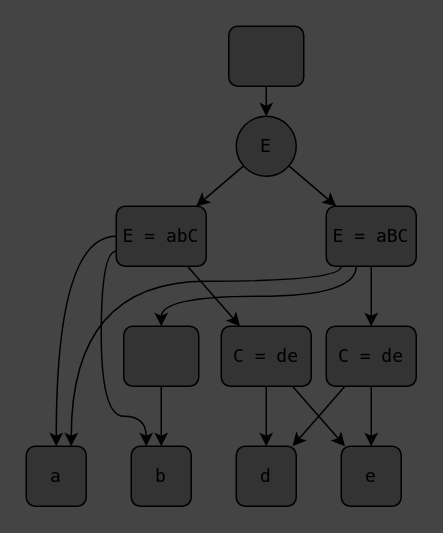
The diagram is 443 pixels wide and 533 high, and some of its shapes have lost their labels. The shapes that lost their labels are listed below. From the top down, each one's box as (x1, y1, x2, y2) in pixels, then its label:
(227, 25, 304, 86): S = E
(122, 325, 199, 386): B = b
